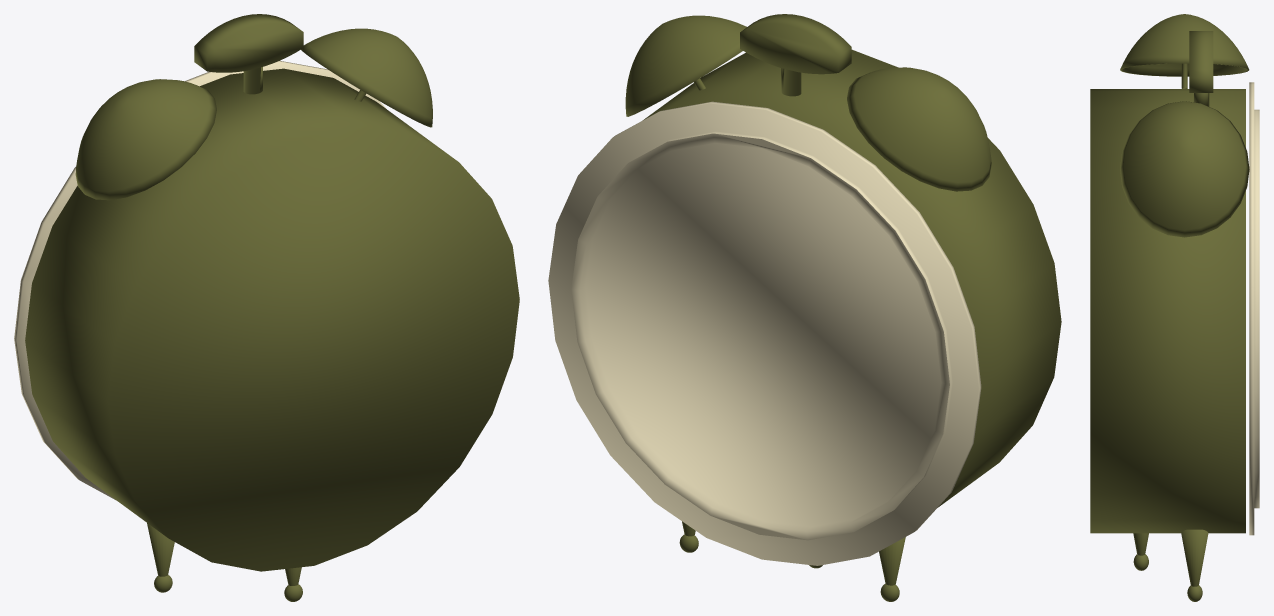
The model's file is LBSR_Clock_alarm.fbx.
The picture shows the model from 3 angles, left to right: view 1: azimuth 30°, elevation 25°; view 2: azimuth 150°, elevation 25°; view 3: azimuth 270°, elevation 25°; orthographic projection. The views are drawn at different scales.
Visible parts, largest first — view 1: body, bell.001, bell, switch, face, leg.001; view 2: face, body, bell.001, bell, switch, leg.001; view 3: body, bell, bell.001, face, switch, leg, leg.002.
Part boxes in pixels (box(x1,y1,x2,y2)): body: box(25, 68, 519, 571); bell.001: box(75, 79, 216, 200); bell: box(301, 28, 432, 127); switch: box(194, 14, 303, 94); face: box(14, 61, 386, 499); leg.001: box(147, 523, 174, 592); face: box(548, 101, 981, 565); body: box(644, 49, 1061, 507); bell.001: box(847, 67, 991, 191); bell: box(625, 15, 746, 116); switch: box(740, 14, 851, 96); leg.001: box(879, 537, 905, 601); body: box(1090, 89, 1245, 533); bell: box(1120, 101, 1249, 237); bell.001: box(1120, 14, 1249, 88); face: box(1249, 82, 1259, 535); switch: box(1189, 31, 1213, 106); leg: box(1181, 529, 1208, 601); leg.002: box(1133, 533, 1148, 570).
Size of the model in its own units: 0.304 by 0.3873 by 0.1132.
